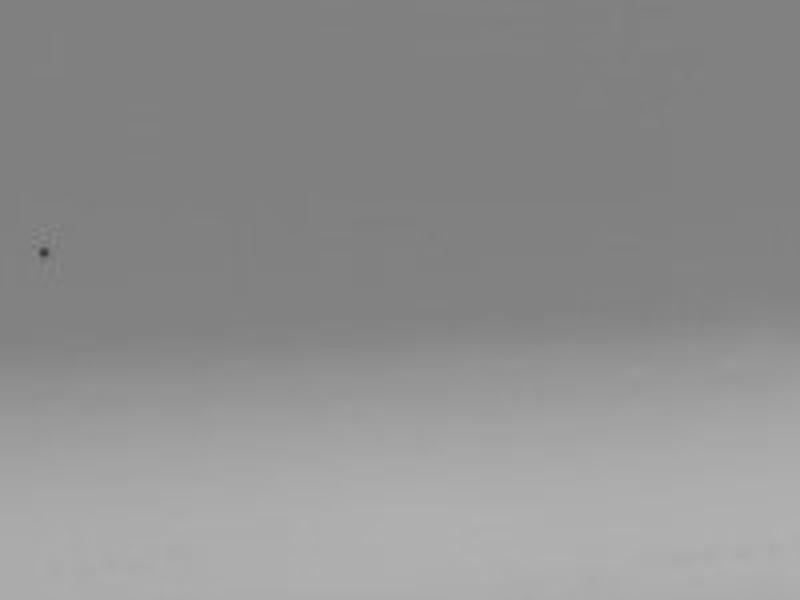defect: (35, 243, 53, 259)
